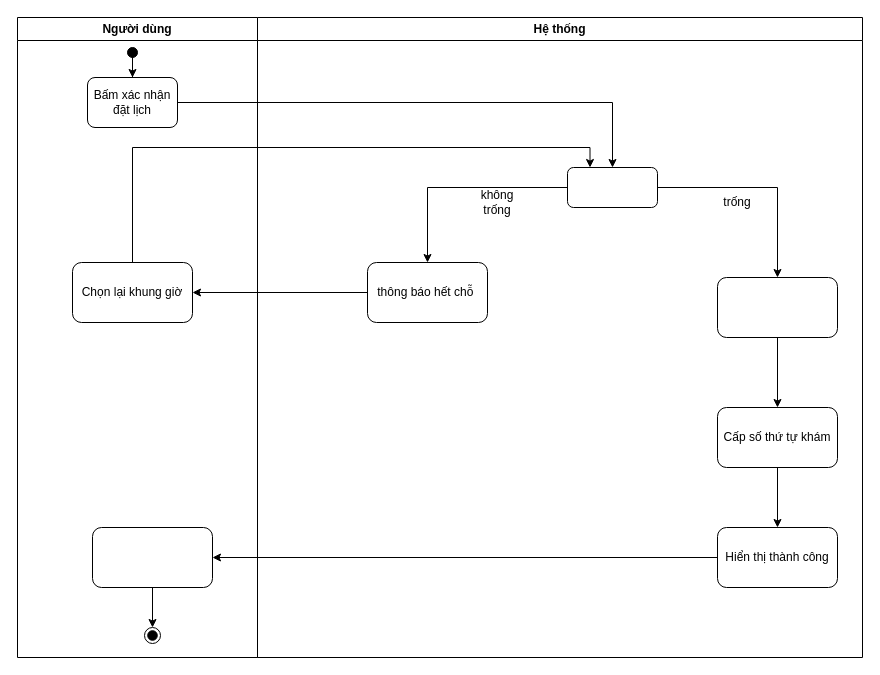
The diagram is 880 pixels wide and 675 high, and some of its shapes have lost their labels. The shapes that lost their labels are listed below. From the top down, each one's centre as x and y in pixels, then its label:
[612,187]: Kiểm tra khung giờ trống
[777,307]: Tạo lịch hẹn
[152,557]: Nhận số và chờ khám
